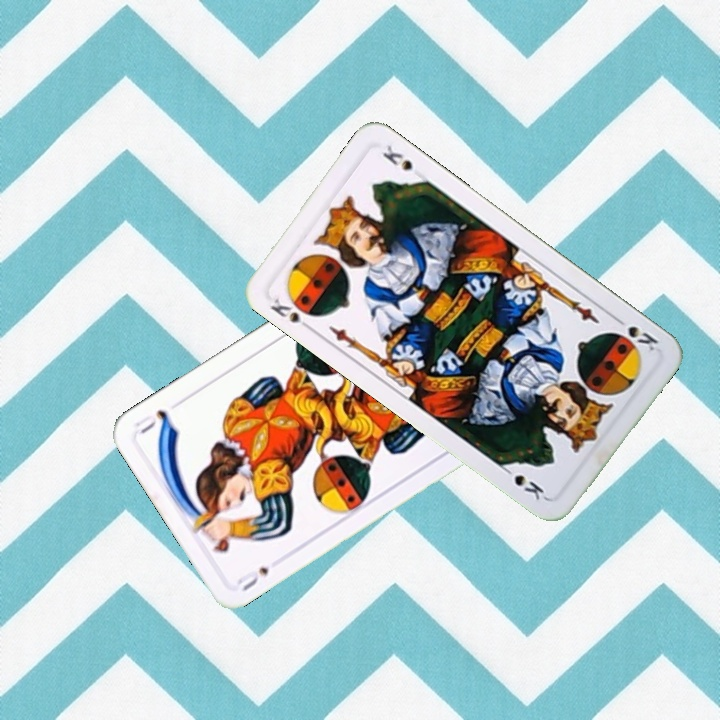SK: (610, 312, 661, 354), (266, 292, 316, 334)
SU: (233, 562, 272, 594)
